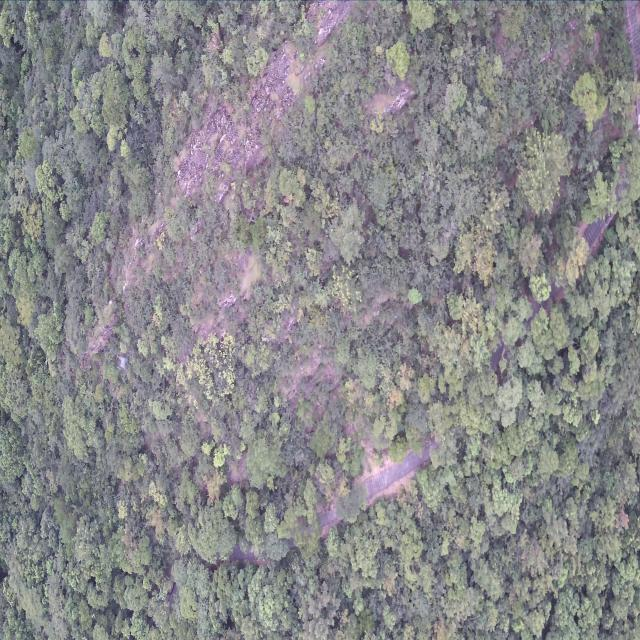UAV: (116, 354, 130, 372)
